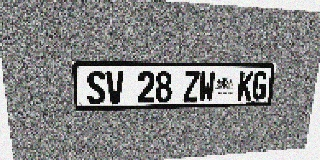2: (138, 71, 155, 103)
8: (155, 71, 172, 103)
G: (251, 72, 268, 100)
K: (237, 71, 254, 100)
S: (86, 71, 106, 104)
V: (106, 71, 124, 104)
W: (199, 71, 216, 101)
Z: (183, 71, 200, 102)
